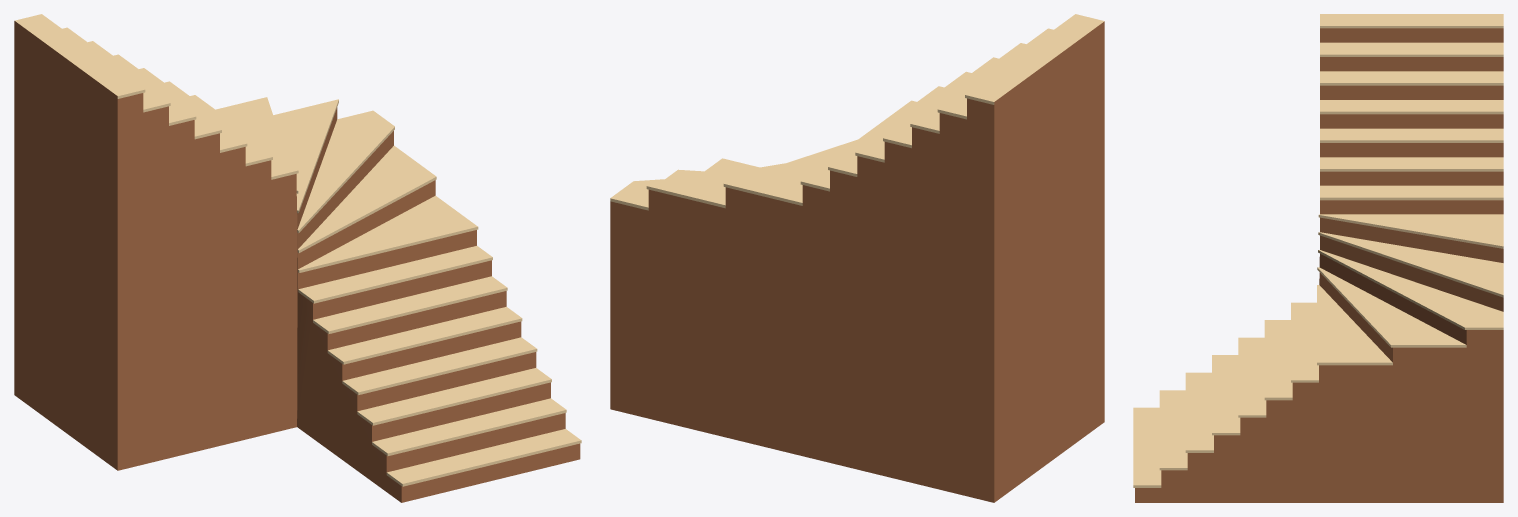
Rendered from fullHeightStairs_corner.glb.
3 renders of one model, left to right at view 1: azimuth 30°, elevation 25°; view 2: azimuth 150°, elevation 25°; view 3: azimuth 270°, elevation 25°, orthographic. The views are drawn at different scales.
Visible parts, largest first — view 1: Stair_fullHeight_corner; view 2: Stair_fullHeight_corner; view 3: Stair_fullHeight_corner.
Boxes of the visible parts, x1=… form: Stair_fullHeight_corner: x1=14, y1=14, x2=581, y2=502; Stair_fullHeight_corner: x1=610, y1=14, x2=1104, y2=502; Stair_fullHeight_corner: x1=1133, y1=14, x2=1503, y2=502.
Size of what is drawn, in the model's own units: 4.01 by 4 by 4.03.
1 material, 1 textured.
